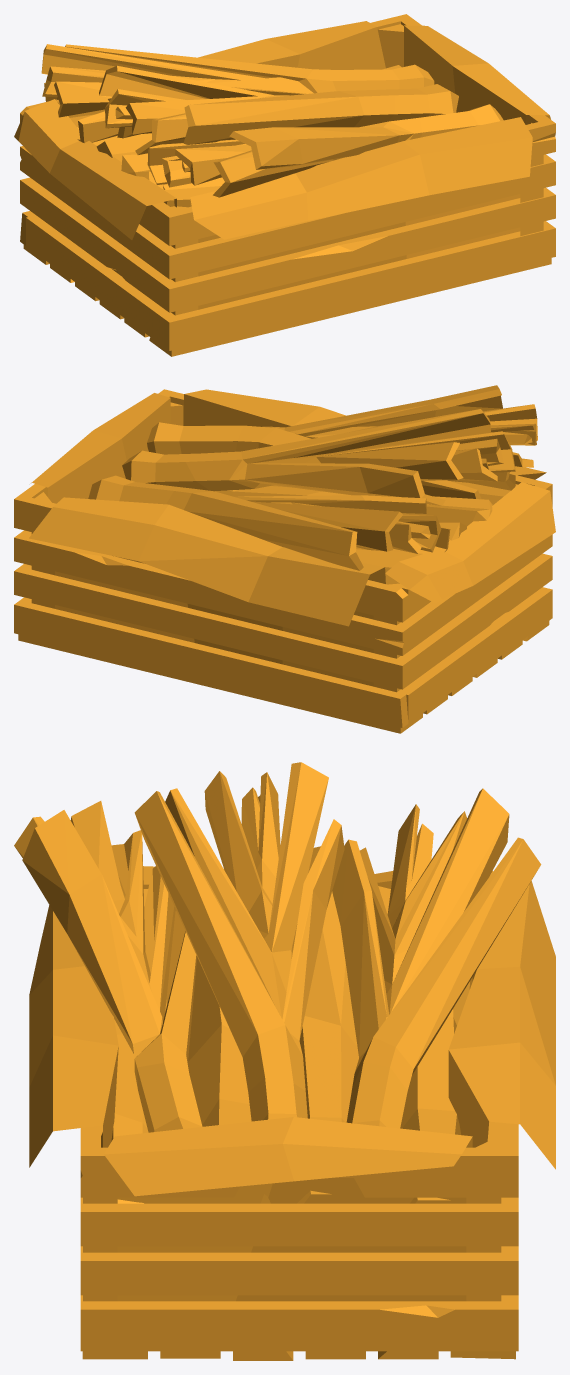
File: SM_Crate_Wood_Medium_Paper_Leek.fbx
3 views of the same model, one above another, from view 1: azimuth 30°, elevation 25°; view 2: azimuth 150°, elevation 25°; view 3: azimuth 270°, elevation 25° (orthographic). The views are drawn at different scales.
Visible parts, largest first — view 1: crate-wood-medium-paper-leek; view 2: crate-wood-medium-paper-leek; view 3: crate-wood-medium-paper-leek.
Part boxes in pixels (left/top/right/bottom): crate-wood-medium-paper-leek: left=14, top=14, right=555, bottom=356; crate-wood-medium-paper-leek: left=14, top=385, right=555, bottom=733; crate-wood-medium-paper-leek: left=14, top=762, right=555, bottom=1360.
Bounding box in the file's own units: 0.663 × 0.3475 × 0.5028.
